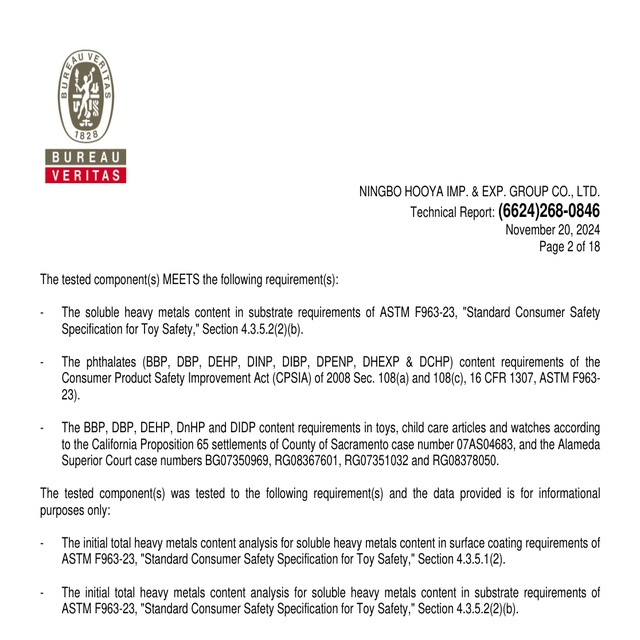bureau_veritas: (43, 46, 130, 191)
